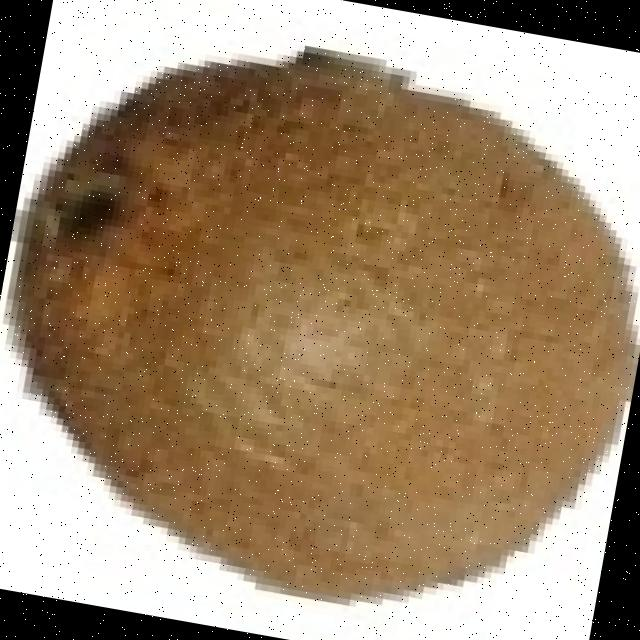kiwi: (20, 66, 636, 611)
